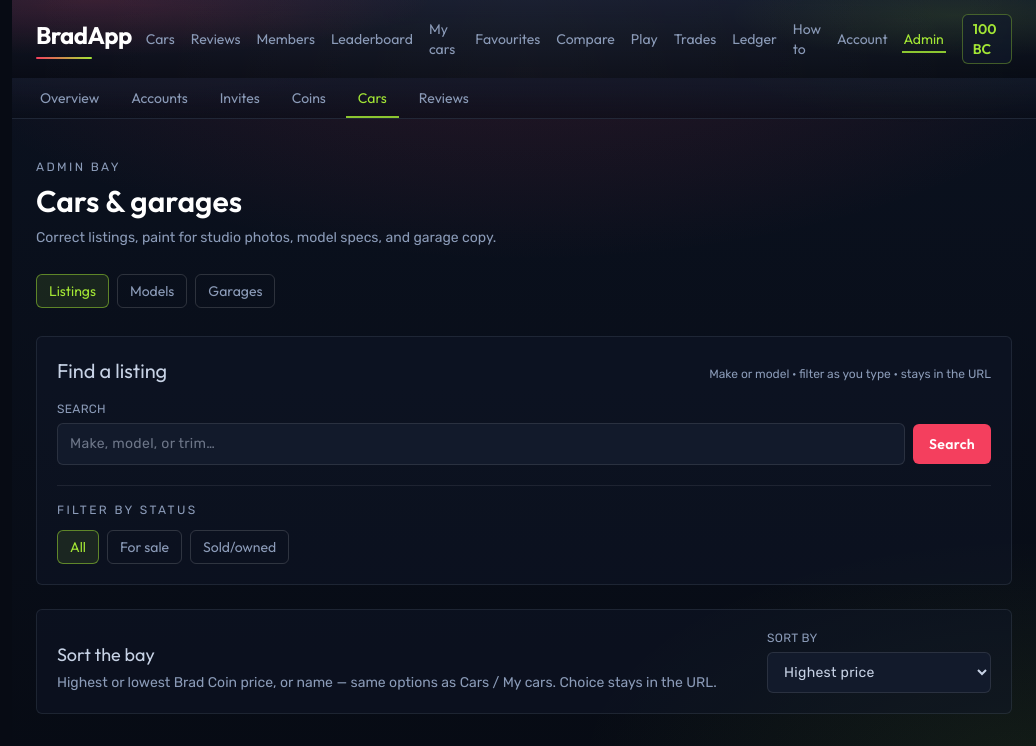
Test: AdminInventoryPage listings search › searches by make/model and filters with status chips
Expected: the heading "Find a listing" is shown, x1=57 y1=357 x2=167 y2=385
Expected: the text "Sort the bay" is shown, x1=57 y1=643 x2=155 y2=666
Type "Audi" into the search field named "Search listings by make or model".
click(481, 444); type("Audi")  # box x1=57 y1=423 x2=905 y2=465
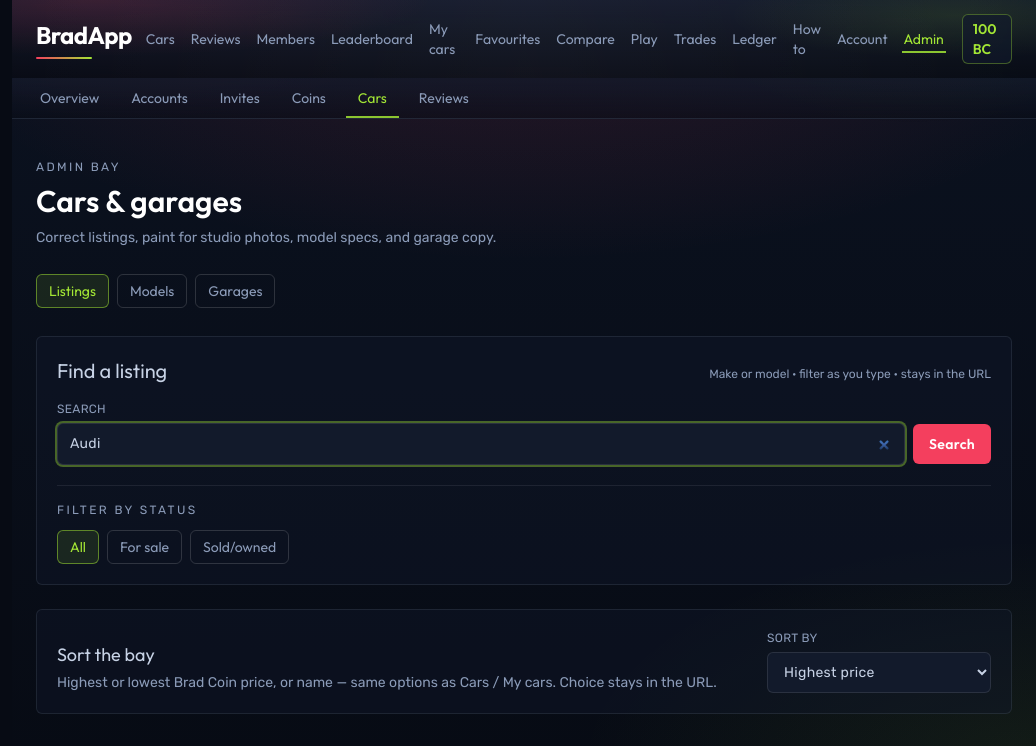
Click the button "Search".
click(952, 444)  # box x1=913 y1=424 x2=991 y2=464
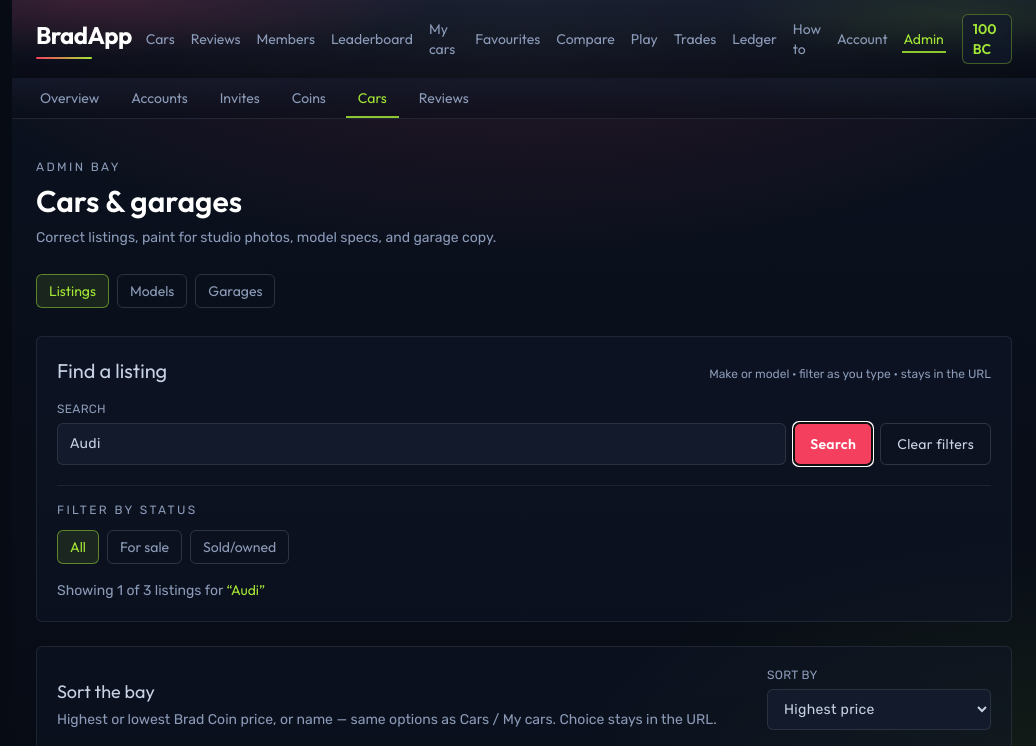
Click the button "Clear filters".
click(936, 444)  # box x1=880 y1=423 x2=991 y2=465
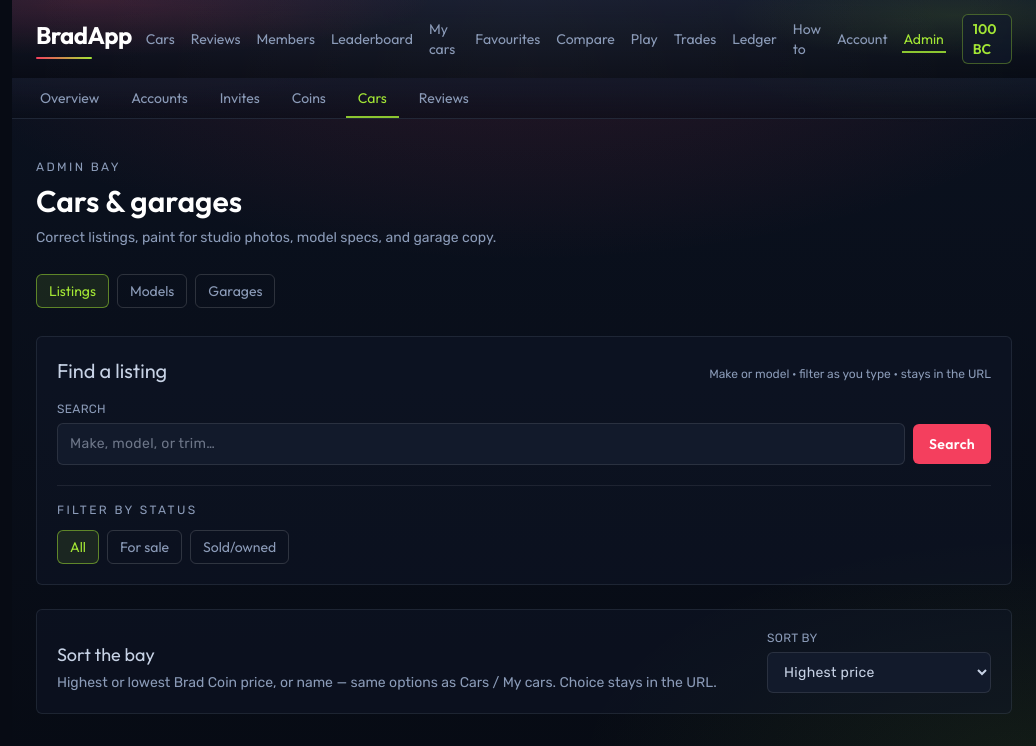
Click the button "For sale".
click(145, 547)  # box x1=107 y1=530 x2=182 y2=564
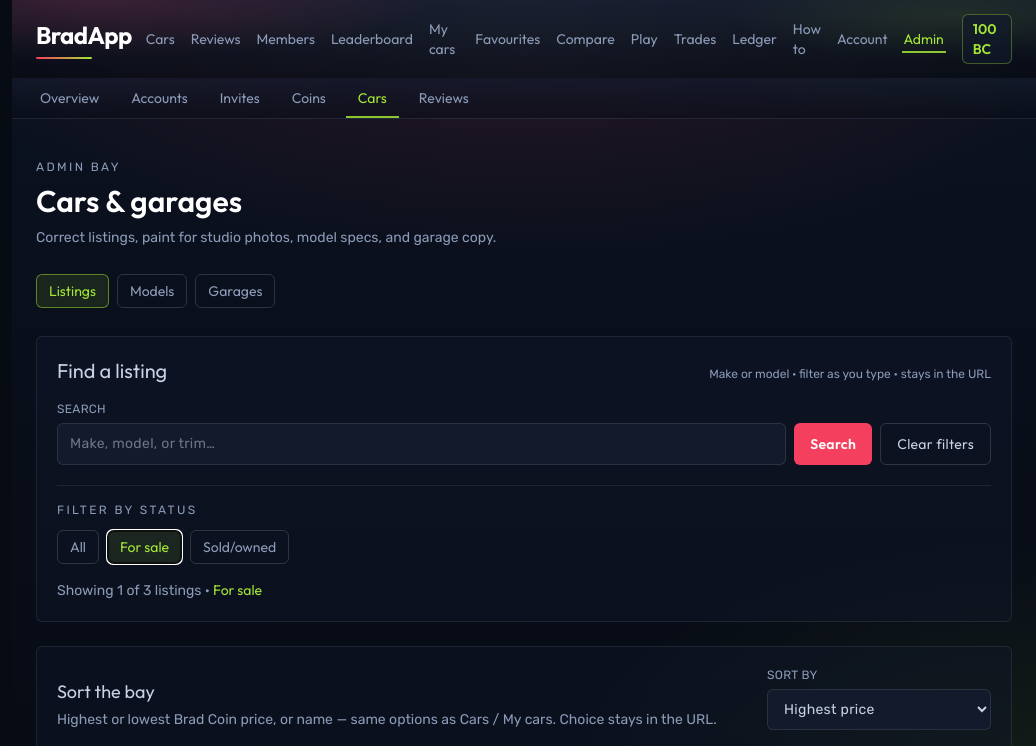
Click the button "Sold/owned".
click(240, 547)  # box x1=190 y1=530 x2=289 y2=564
(page scrolled)
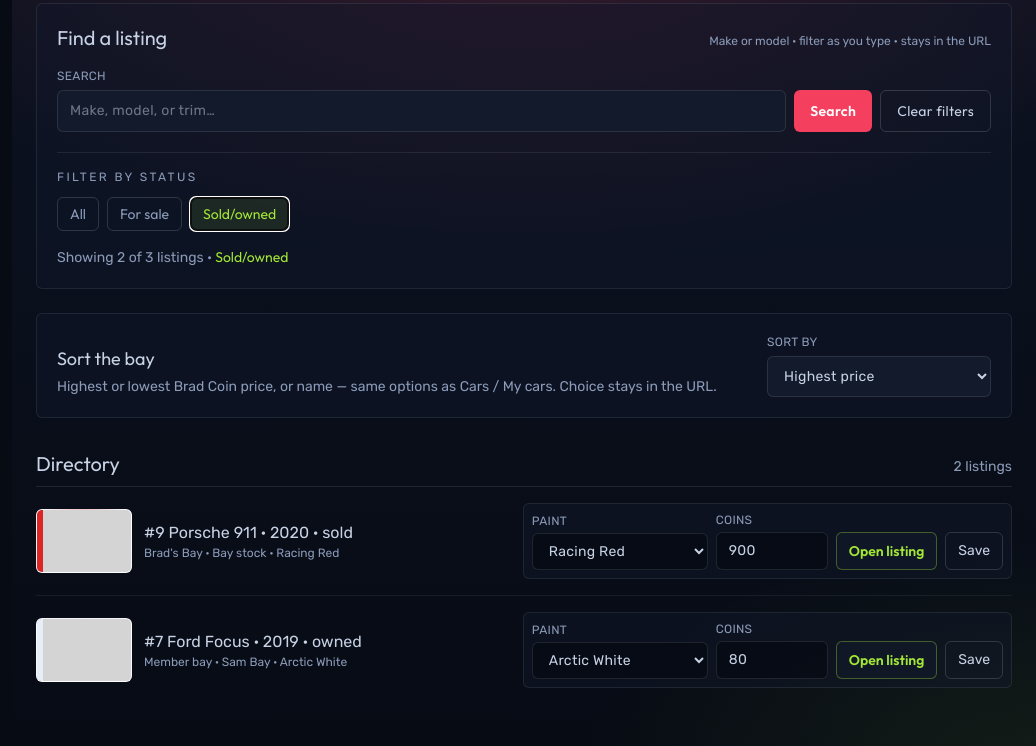
Result: the text "#7 Ford Focus · 2019 · owned" is shown at x1=144 y1=630 x2=362 y2=654
Result: the text "#9 Porsche 911 · 2020 · sold" is shown at x1=144 y1=521 x2=353 y2=545
